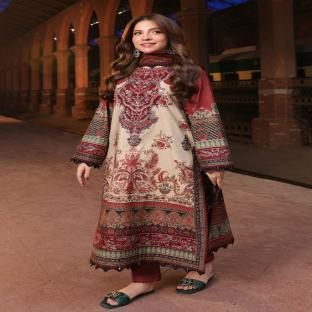Human: (70, 14, 233, 308)
